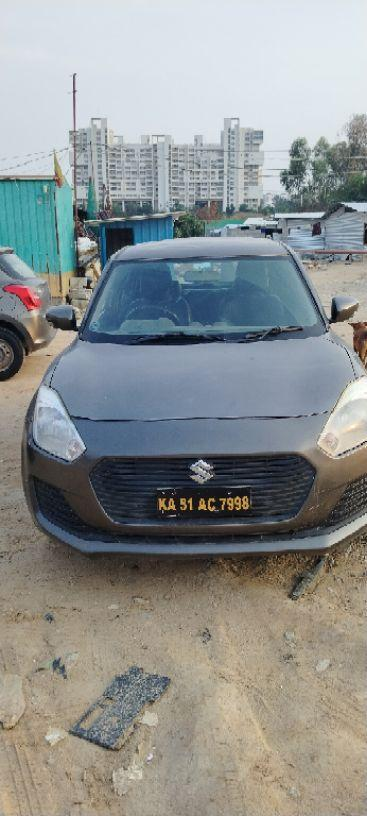license_plate: (154, 484, 253, 518)
